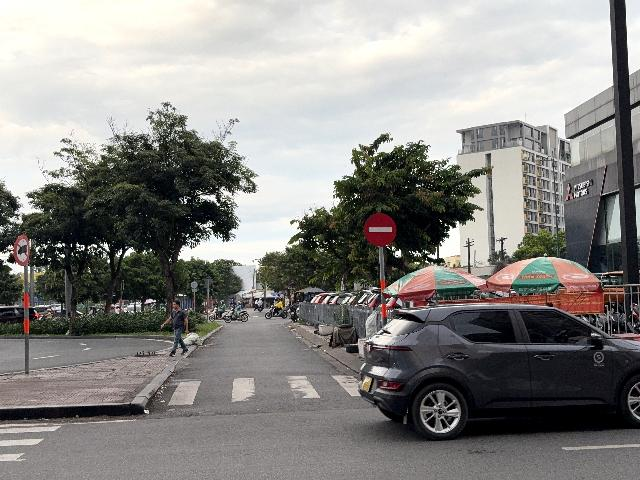cam-di-nguoc-chieu: (363, 213, 396, 247)
